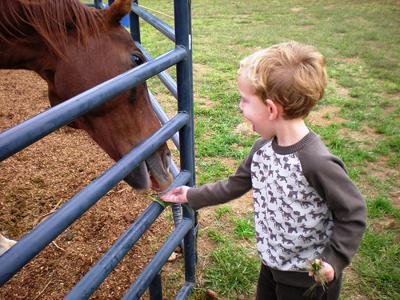person: (158, 42, 369, 300)
